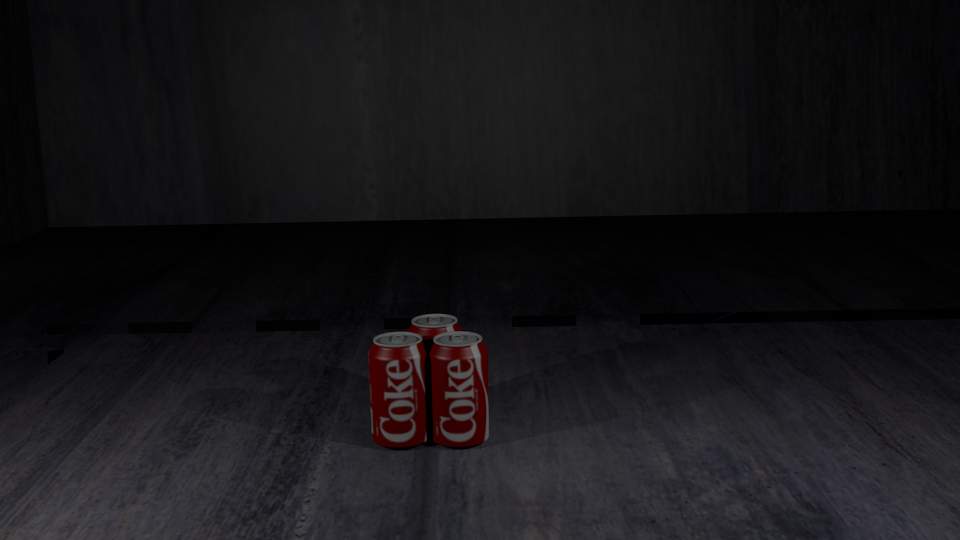cola_can: (368, 332, 428, 444), (428, 332, 488, 443), (407, 314, 462, 420)
